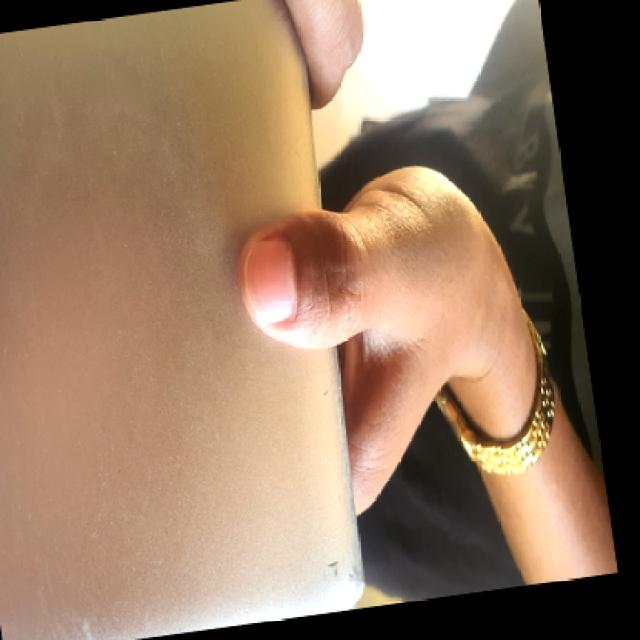Nail: (244, 239, 295, 323)
